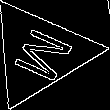M_SE: (3, 20, 77, 85)
